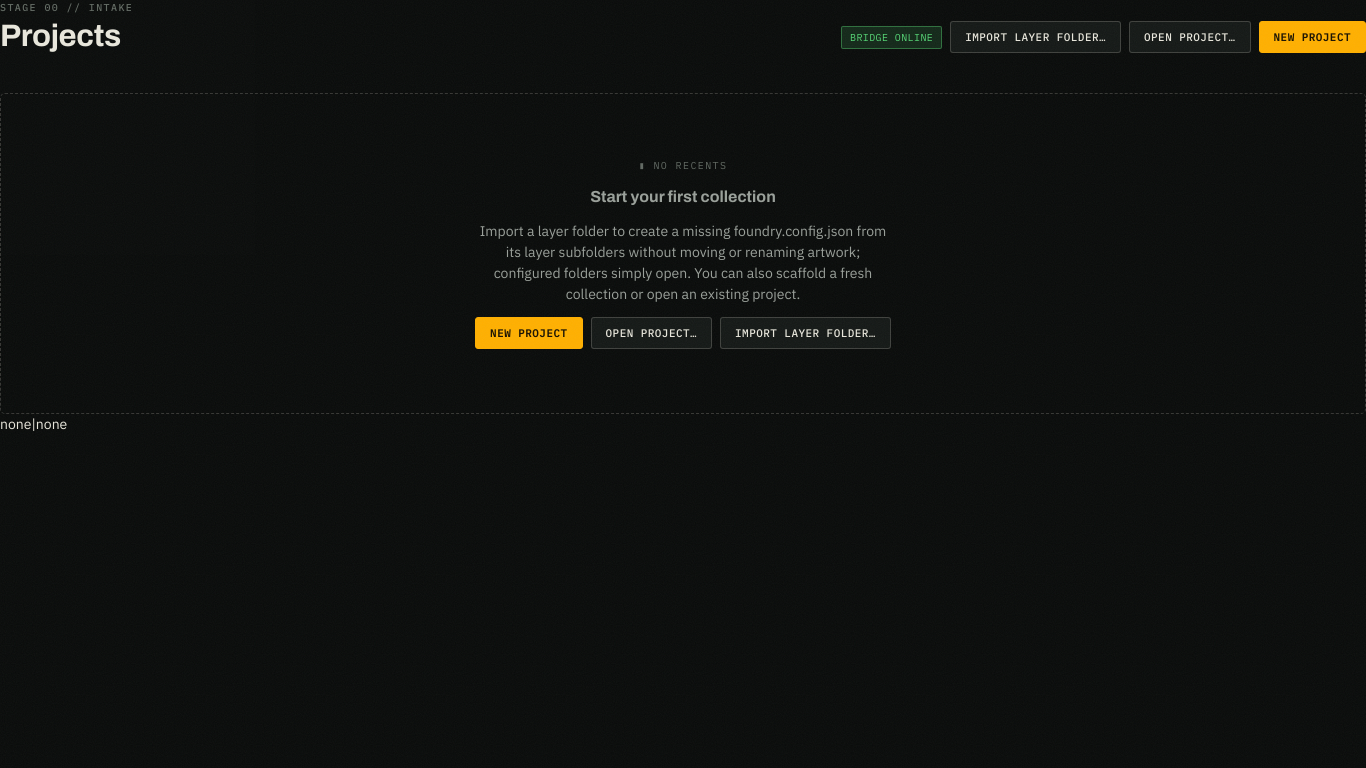
it: ProjectsScreen — new project › refuses to clobber a folder that already contains a project
Click the button "New project" in the row of "BRIDGE ONLINE".
click(1312, 37)  # box [1258,21,1365,53]
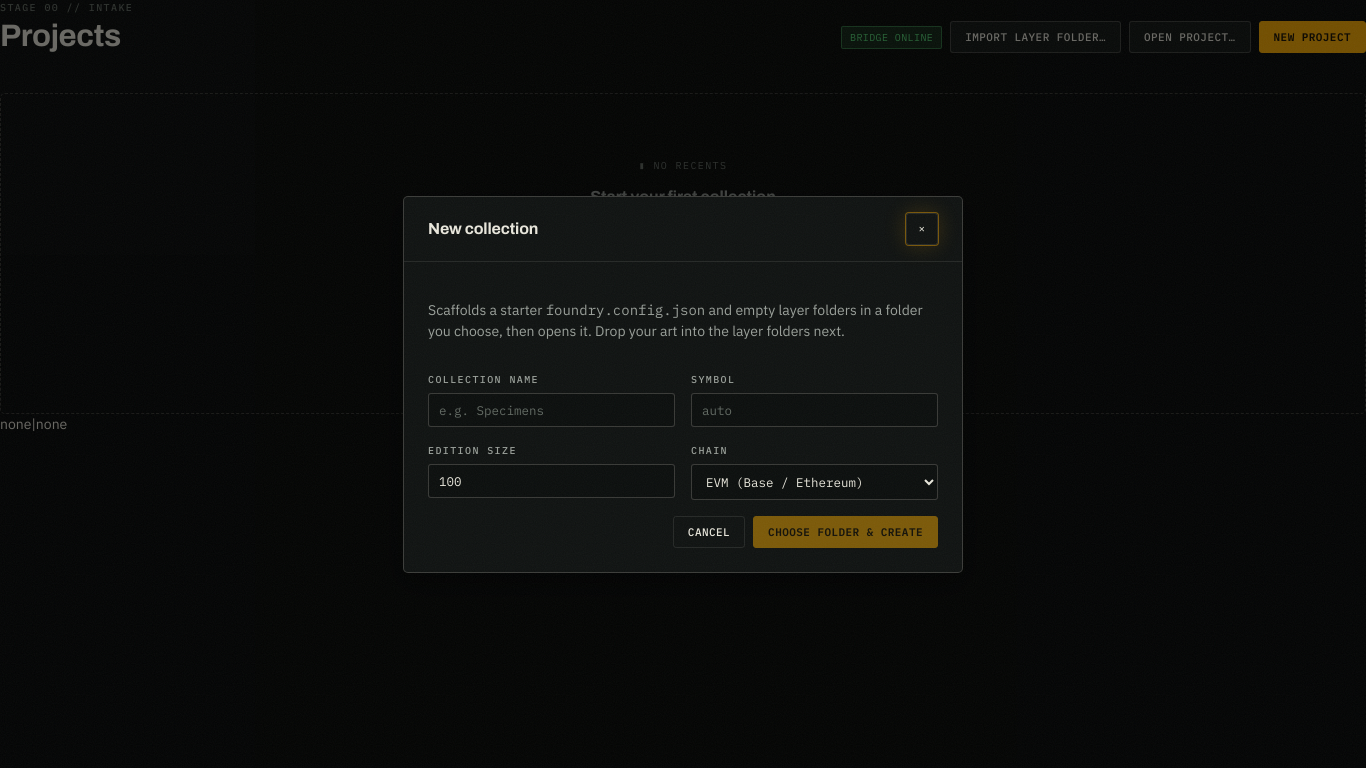
Type "Specimens" into the field labelled "Collection name".
click(552, 410); type("Specimens")  # box [428,392,675,426]
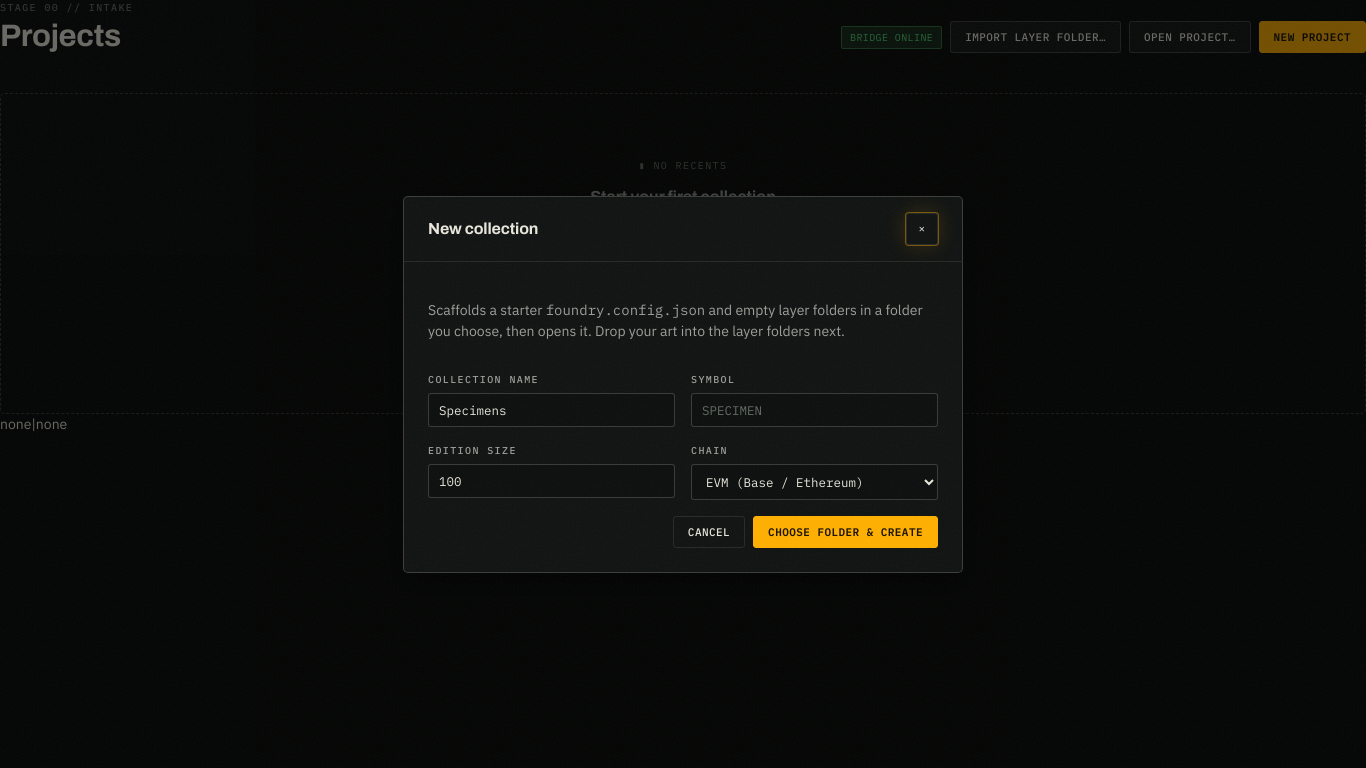
Click the button "Choose folder & create".
click(846, 532)  # box [753,516,938,548]
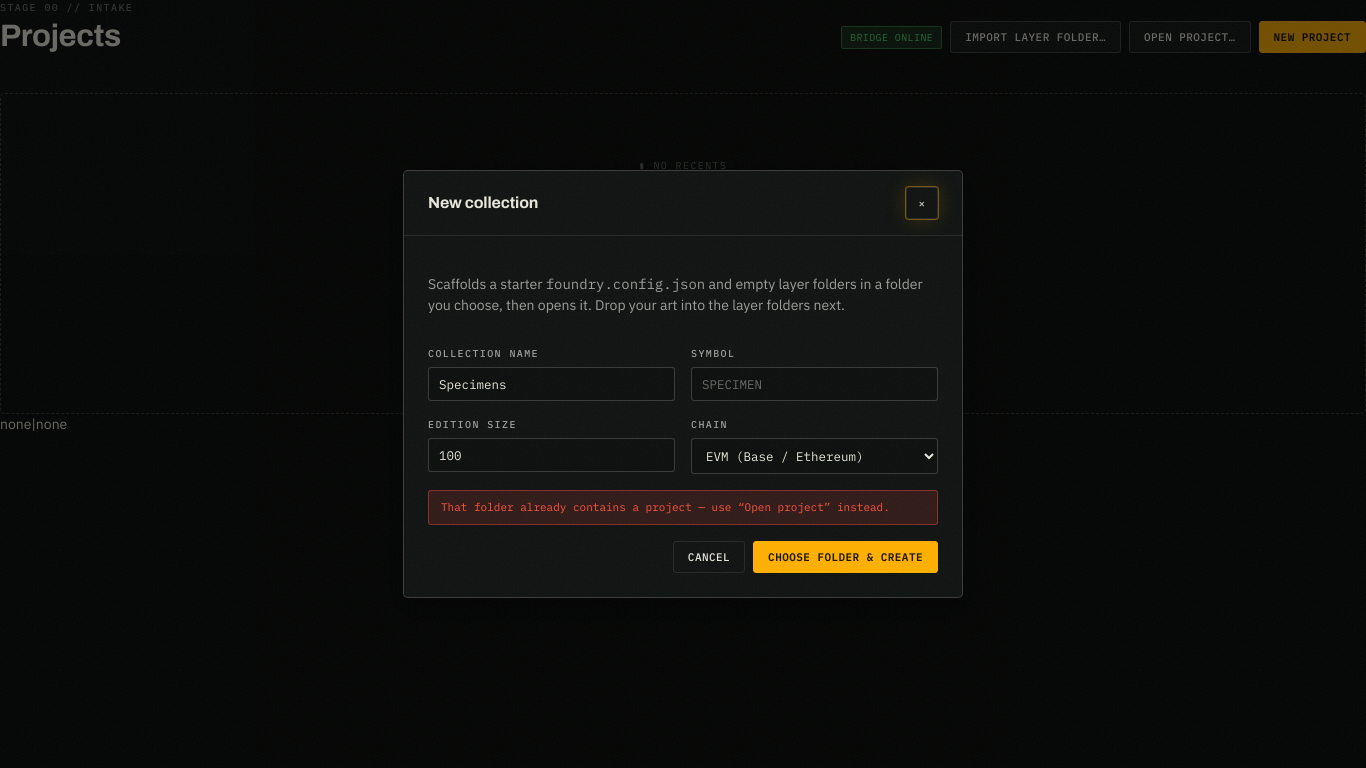
Now the text "already contains a project" is shown, box [441,500,890,514]
